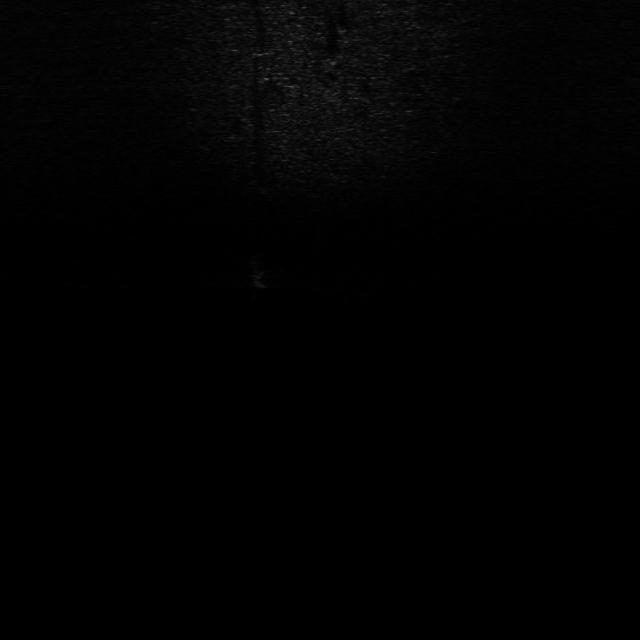human body: (240, 251, 276, 297)
